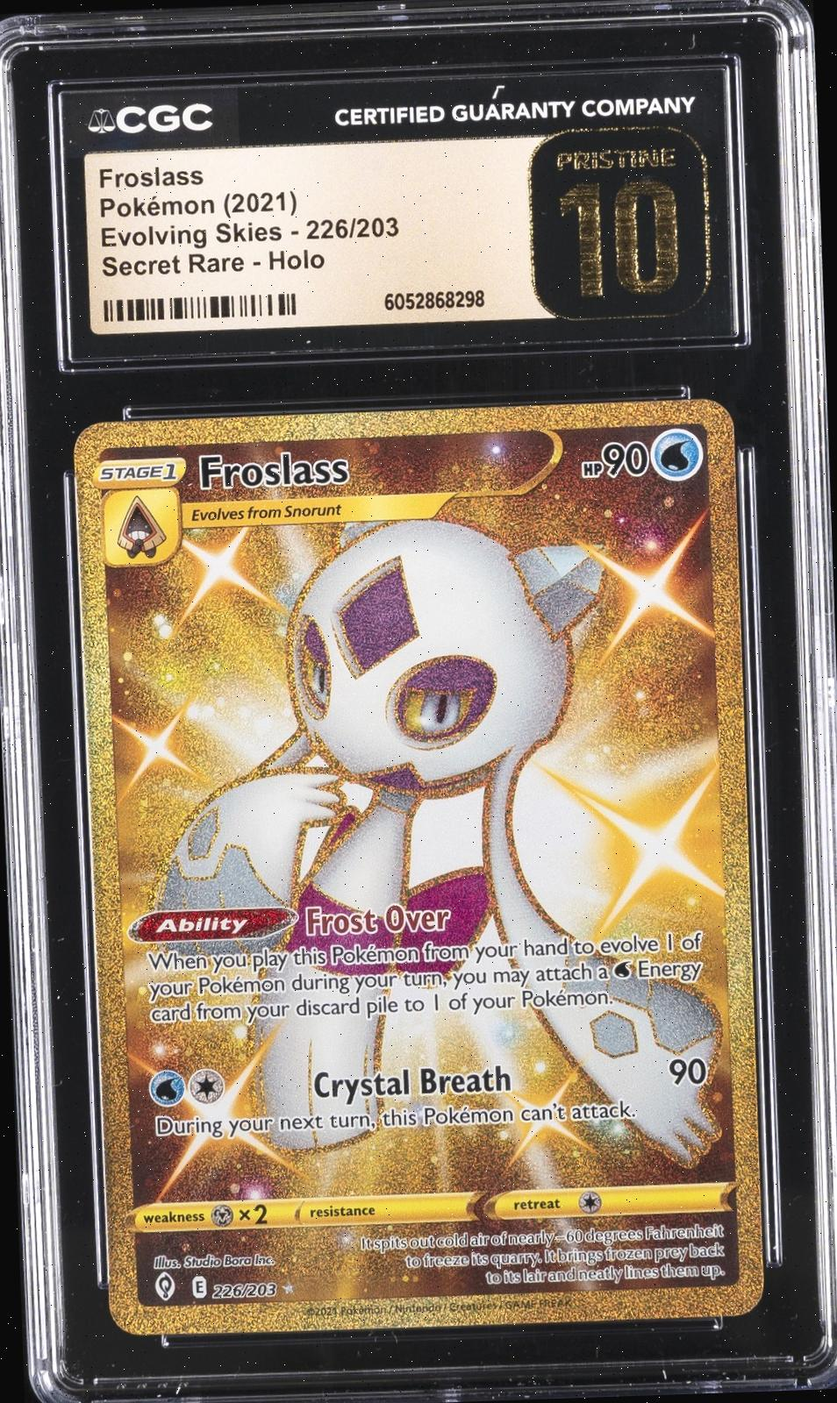card-2UtV: (73, 399, 764, 1336)
